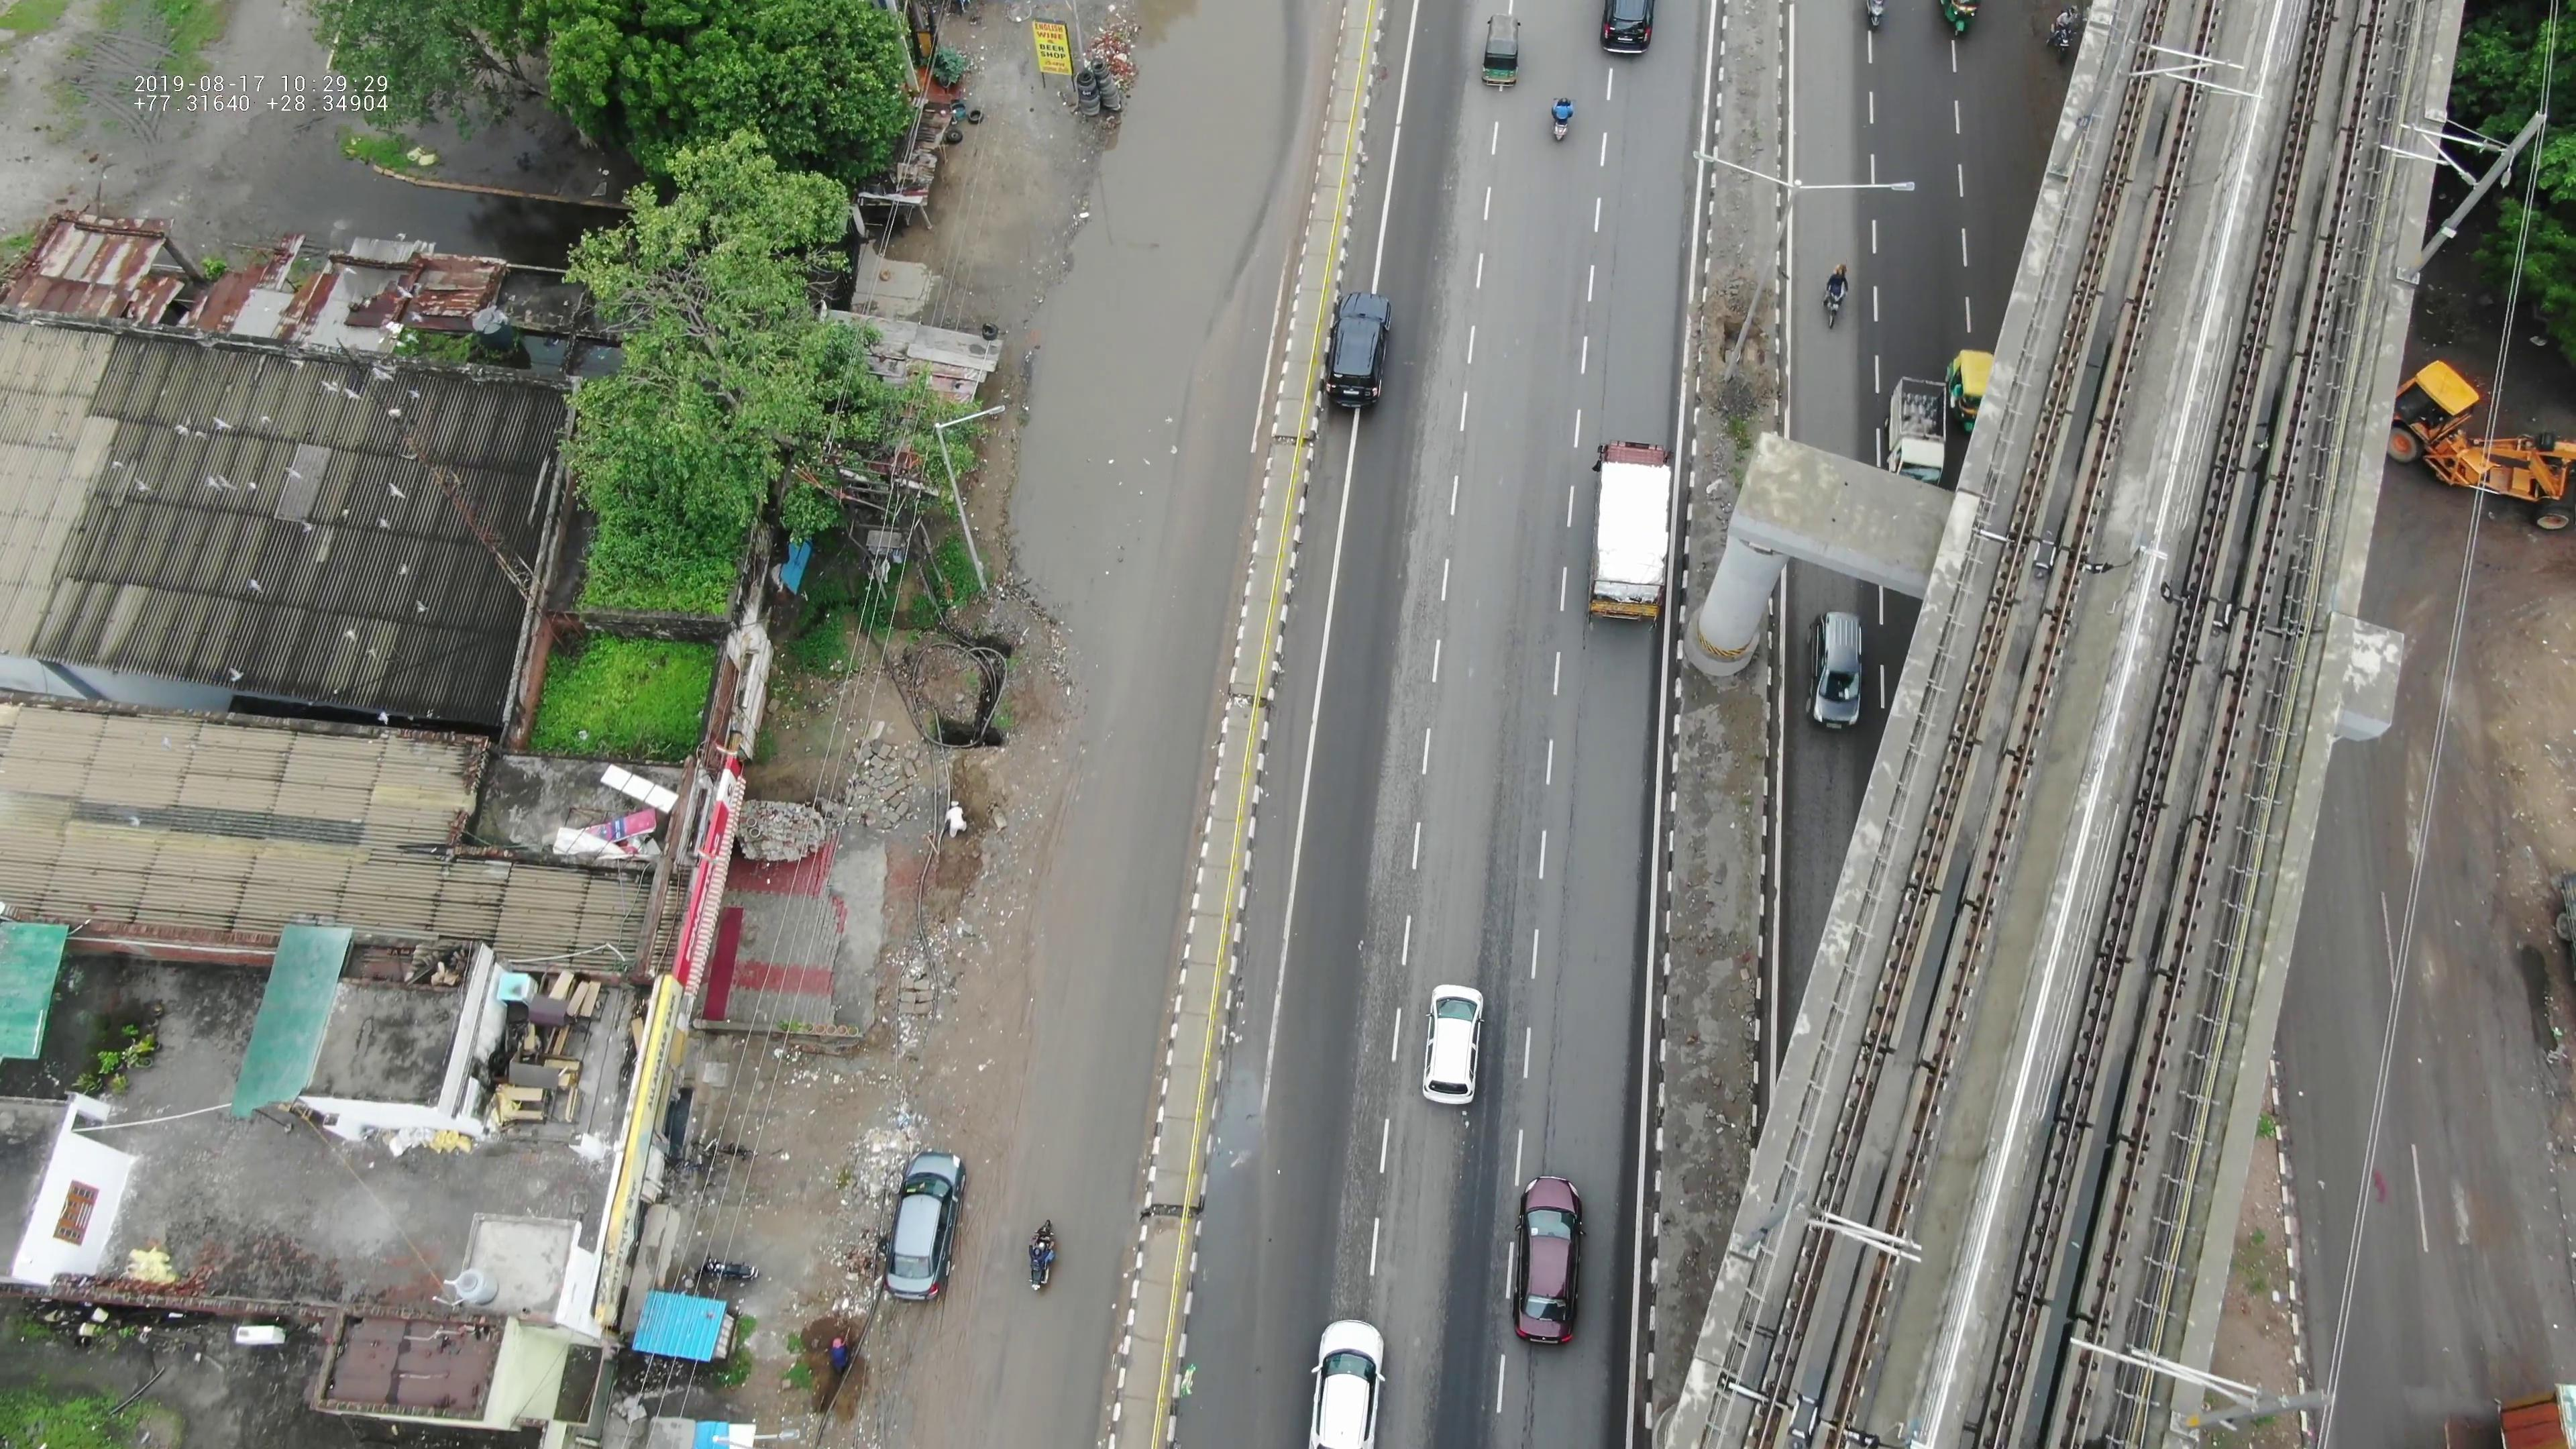Waterlogging: (1000, 32, 1283, 573)
